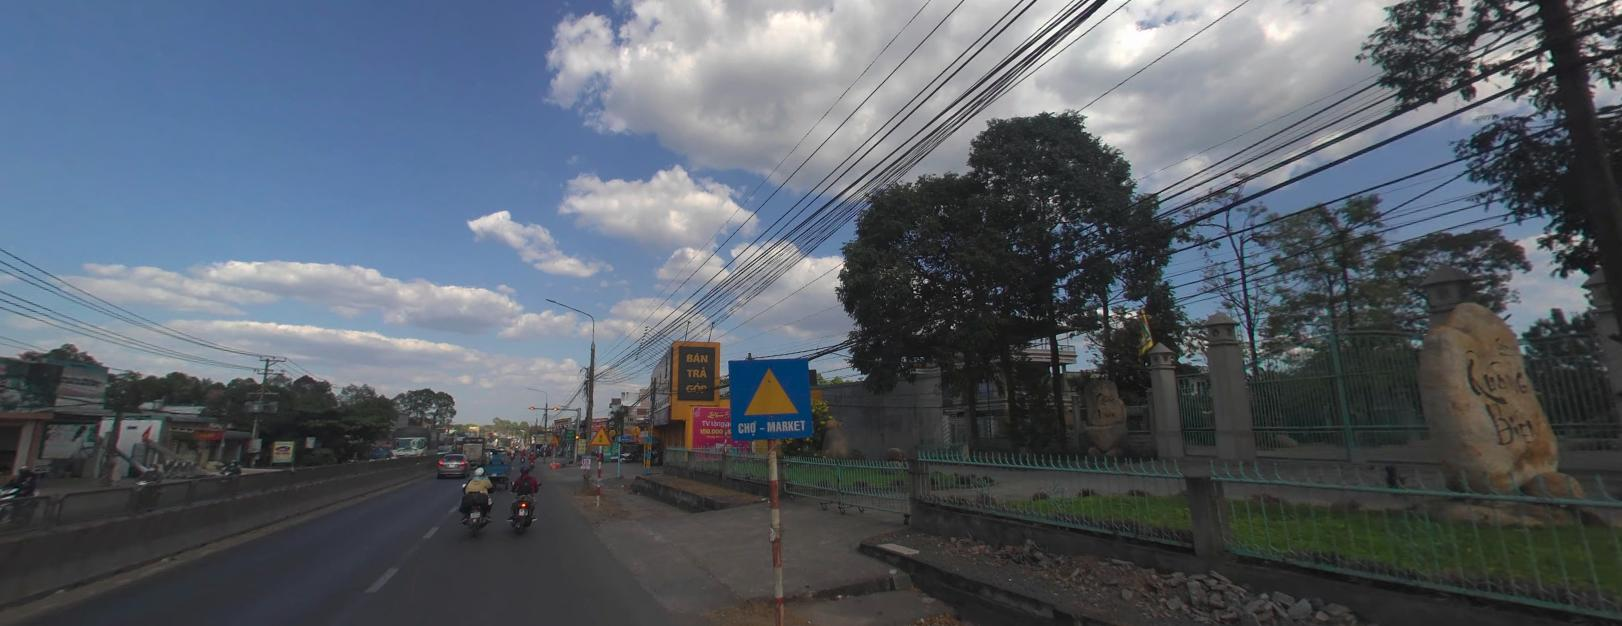Nguy hiem: (740, 363, 801, 414), (588, 423, 611, 445), (549, 434, 559, 442)
